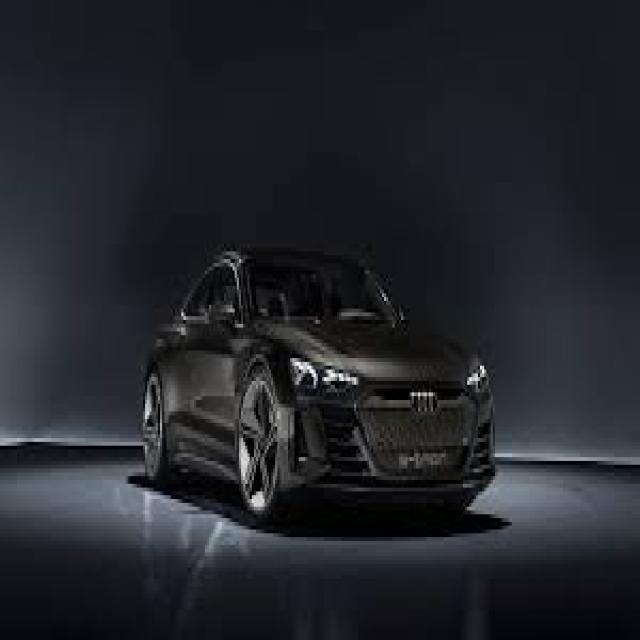Car: (142, 248, 494, 517)
